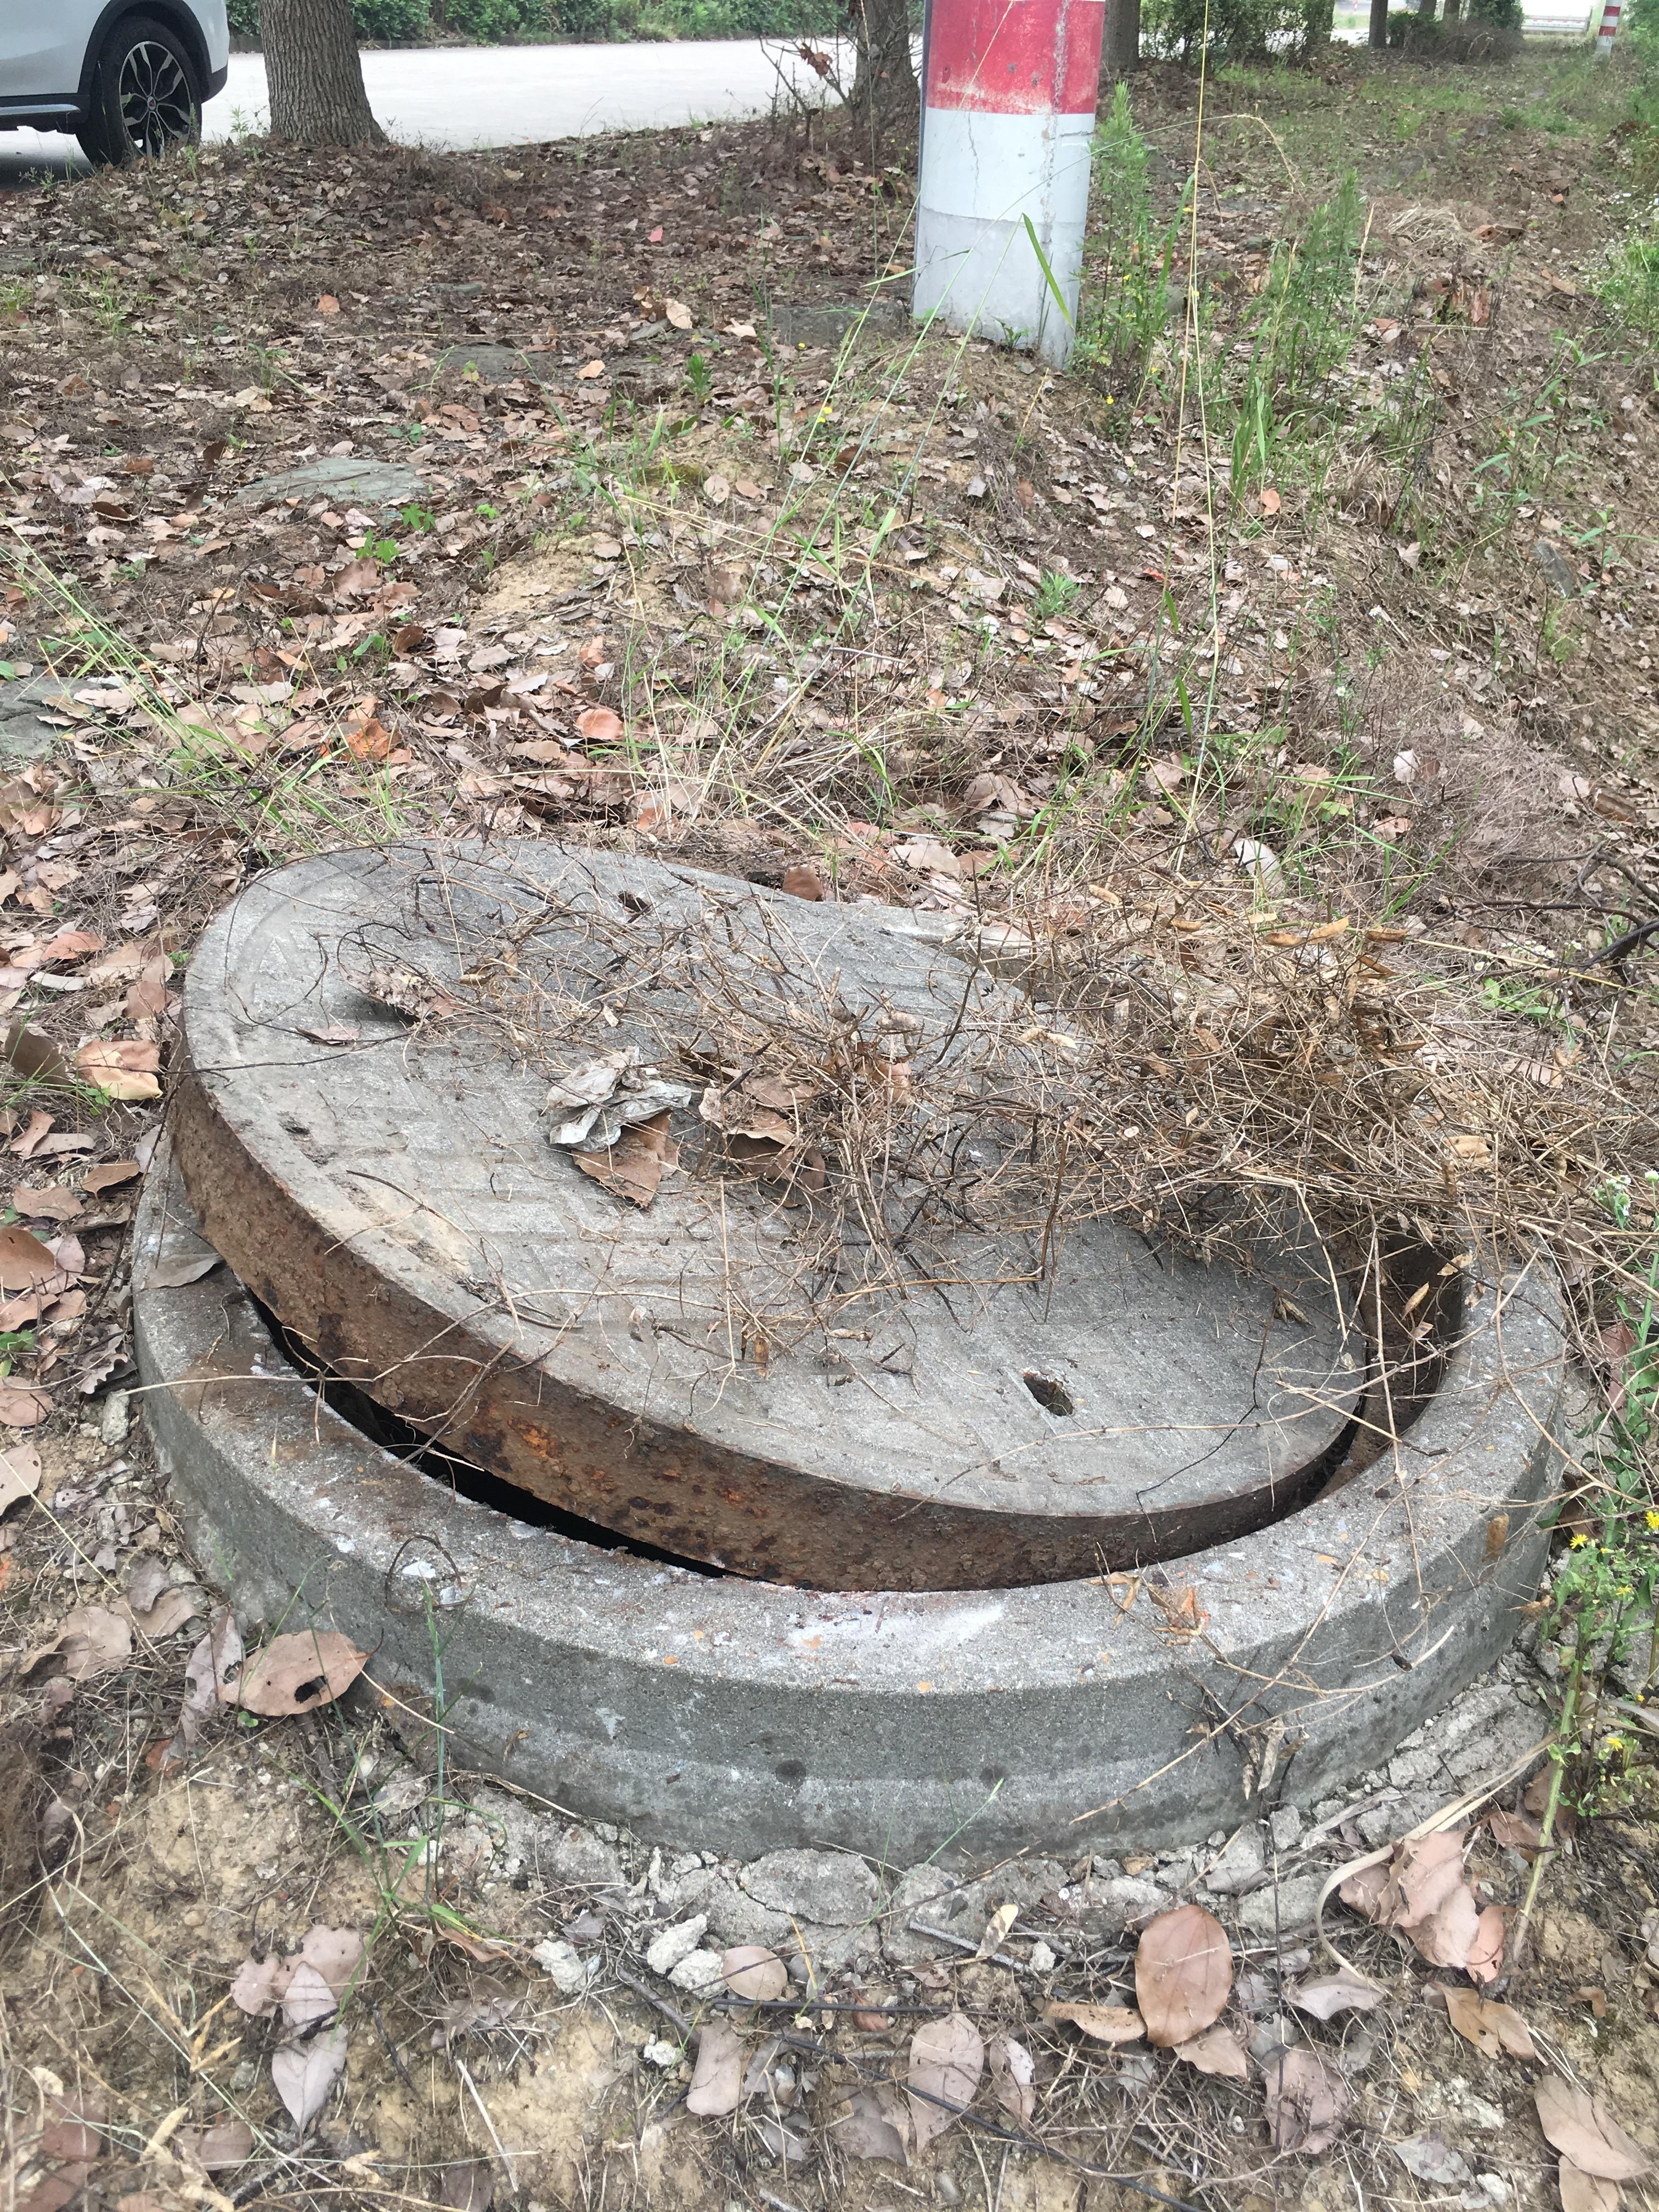wellcover: (122, 831, 1605, 1771)
